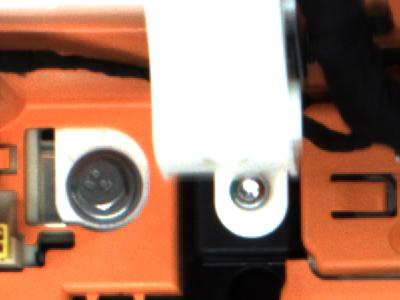nut_b: (66, 149, 141, 227)
